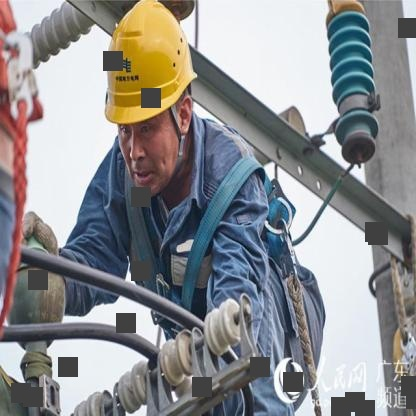yellow: (99, 2, 207, 130)
